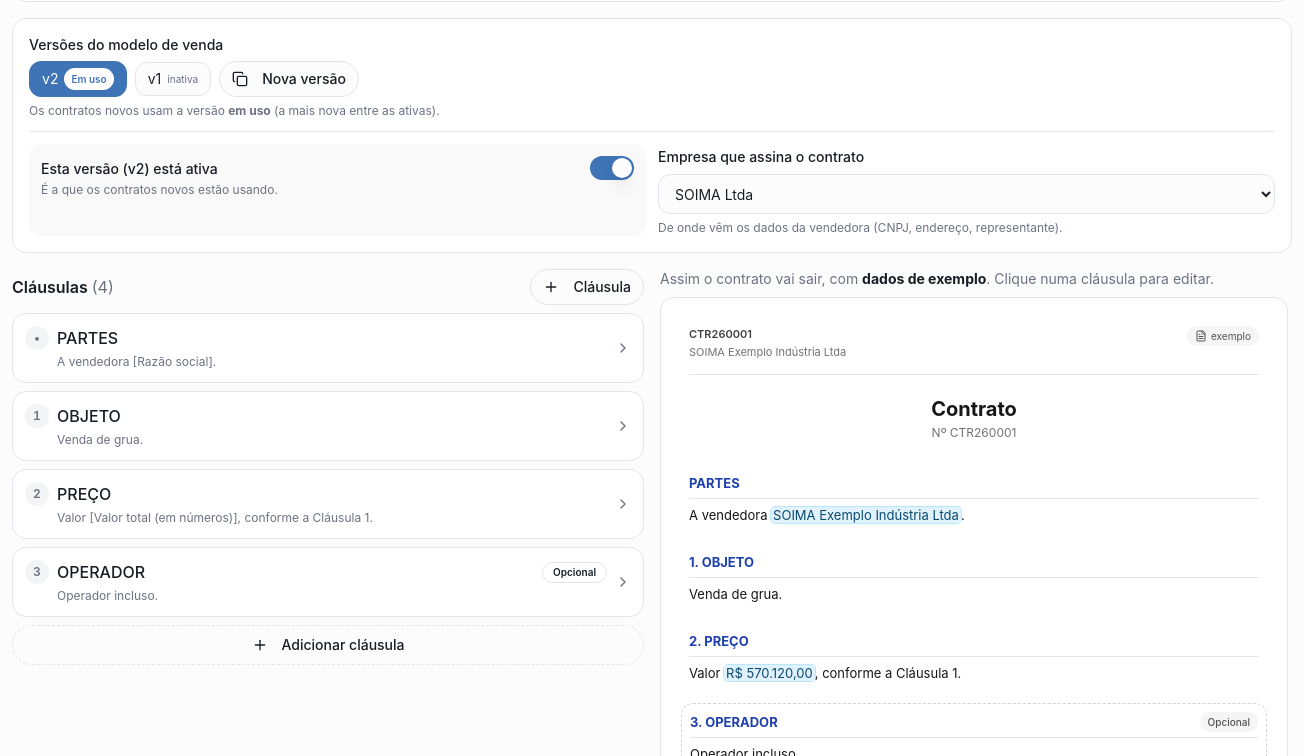
editor do modelo — editar e salvar › editar um texto marca como alterada, mostra a barra de salvar e atualiza a visualização
Expected: the heading "Cláusulas (4)" is shown, [12,275,114,299]
Step 1. Click the button with aria-label "Editar cláusula 1. OBJETO" → (89, 416), box [13,392,643,460]
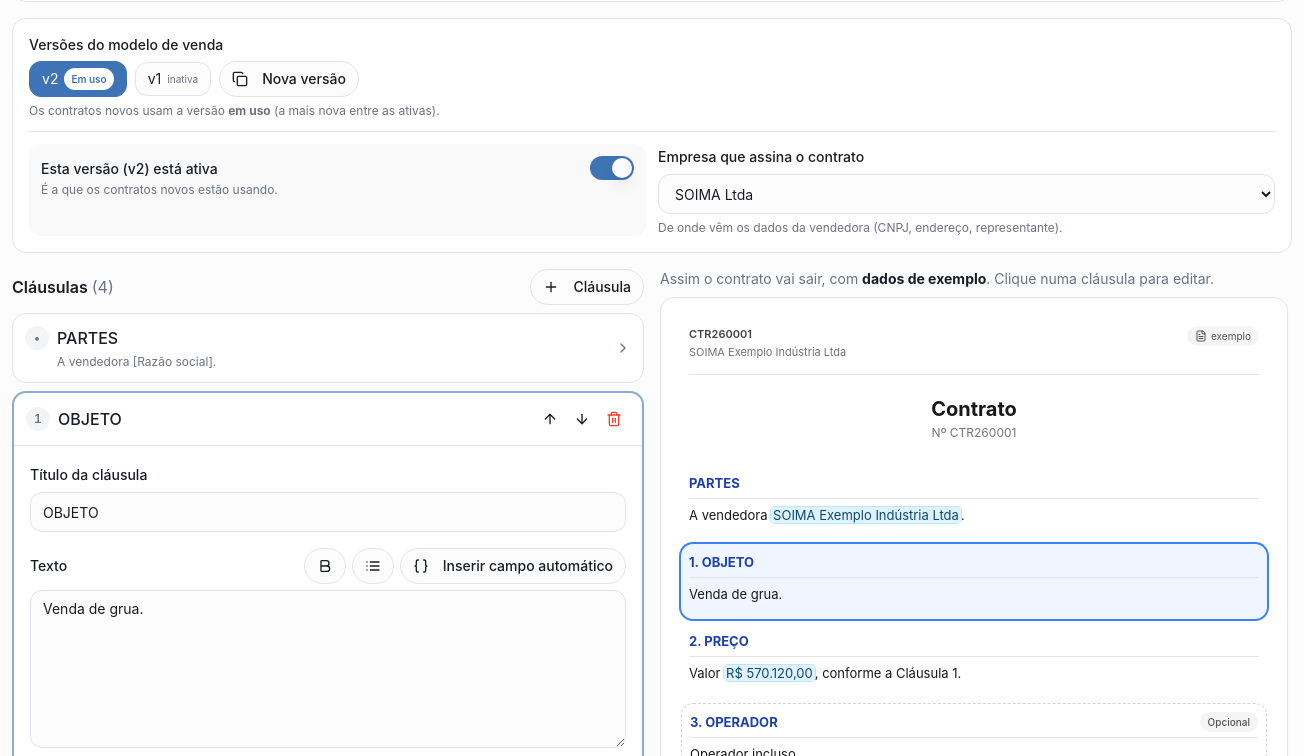
Step 2. Replace the text in the text box labelled "Texto" with "Venda de grua torre modelo X." → (328, 669), box [30,590,626,748]
(page scrolled)
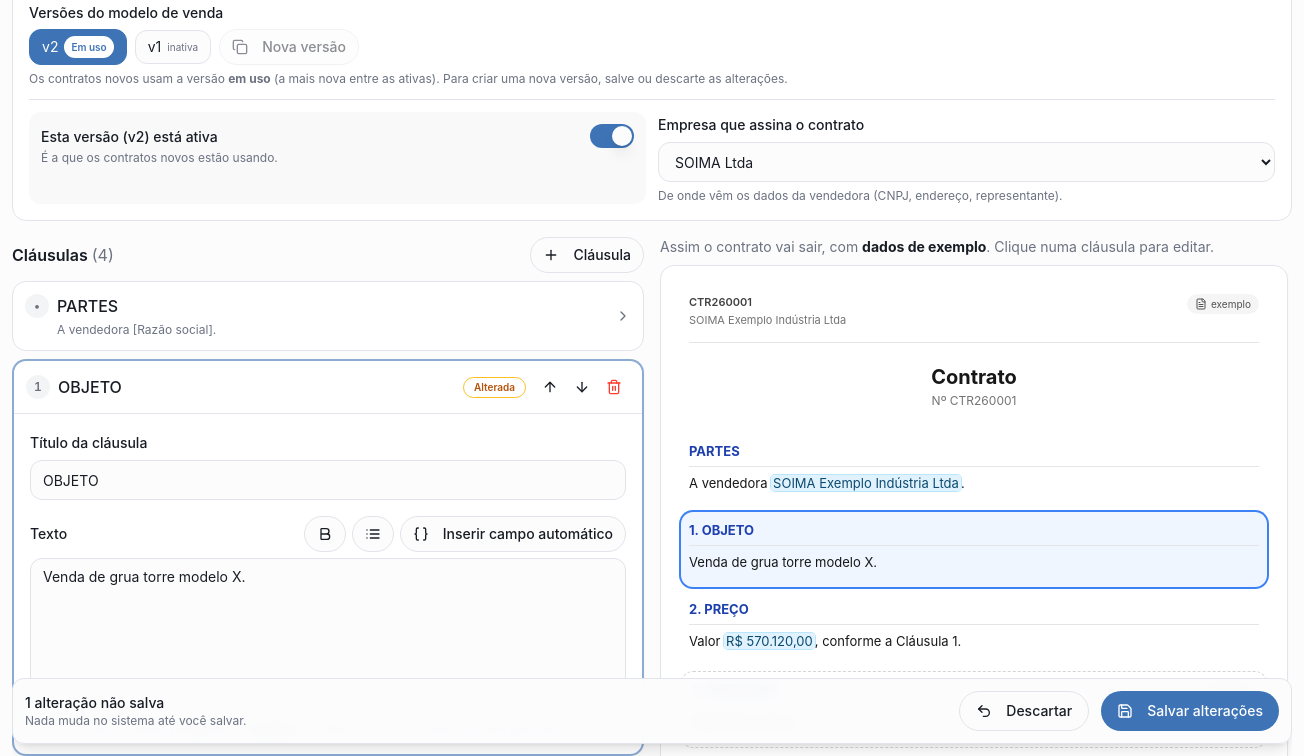
Now the message named "Alterações pendentes" shows "1 alteração não salva", box [12,678,1292,744]
Now the message named "Alterações pendentes" shows "Nada muda no sistema até você salvar", box [25,713,246,728]
Now the text "Alterada" is shown, box [463,376,526,398]
